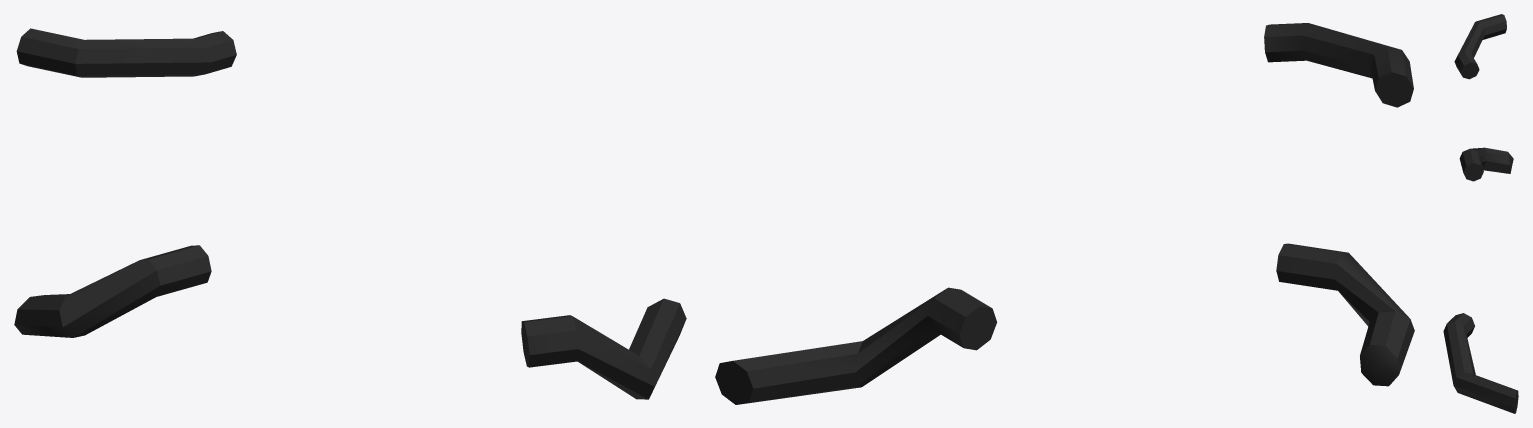
File: CryoPipes.glb
3 views of the same model, side by side, from view 1: azimuth 30°, elevation 25°; view 2: azimuth 150°, elevation 25°; view 3: azimuth 270°, elevation 25° (orthographic). The views are drawn at different scales.
Visible parts, largest first — view 1: CryoPipes; view 2: CryoPipes; view 3: CryoPipes.
Boxes of the visible parts, x1,y1,x2,y2 form: CryoPipes: [14, 28, 686, 399]; CryoPipes: [715, 23, 1414, 404]; CryoPipes: [1443, 14, 1518, 413].
Size of the model in its own units: 3.78 by 2.54 by 0.7185.
Materials: 1 (1 with a texture image).
